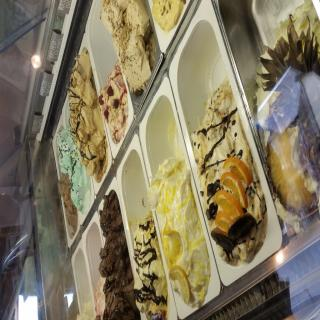Ice cream: (189, 77, 263, 267), (148, 160, 209, 305), (102, 196, 140, 320), (100, 0, 150, 91), (69, 56, 105, 182), (134, 211, 168, 320), (98, 70, 130, 150), (58, 134, 88, 215), (56, 174, 76, 239), (153, 0, 183, 29), (94, 276, 106, 320), (76, 300, 93, 320)
